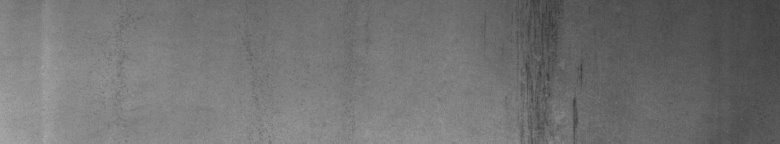ka: (516, 4, 584, 136)
